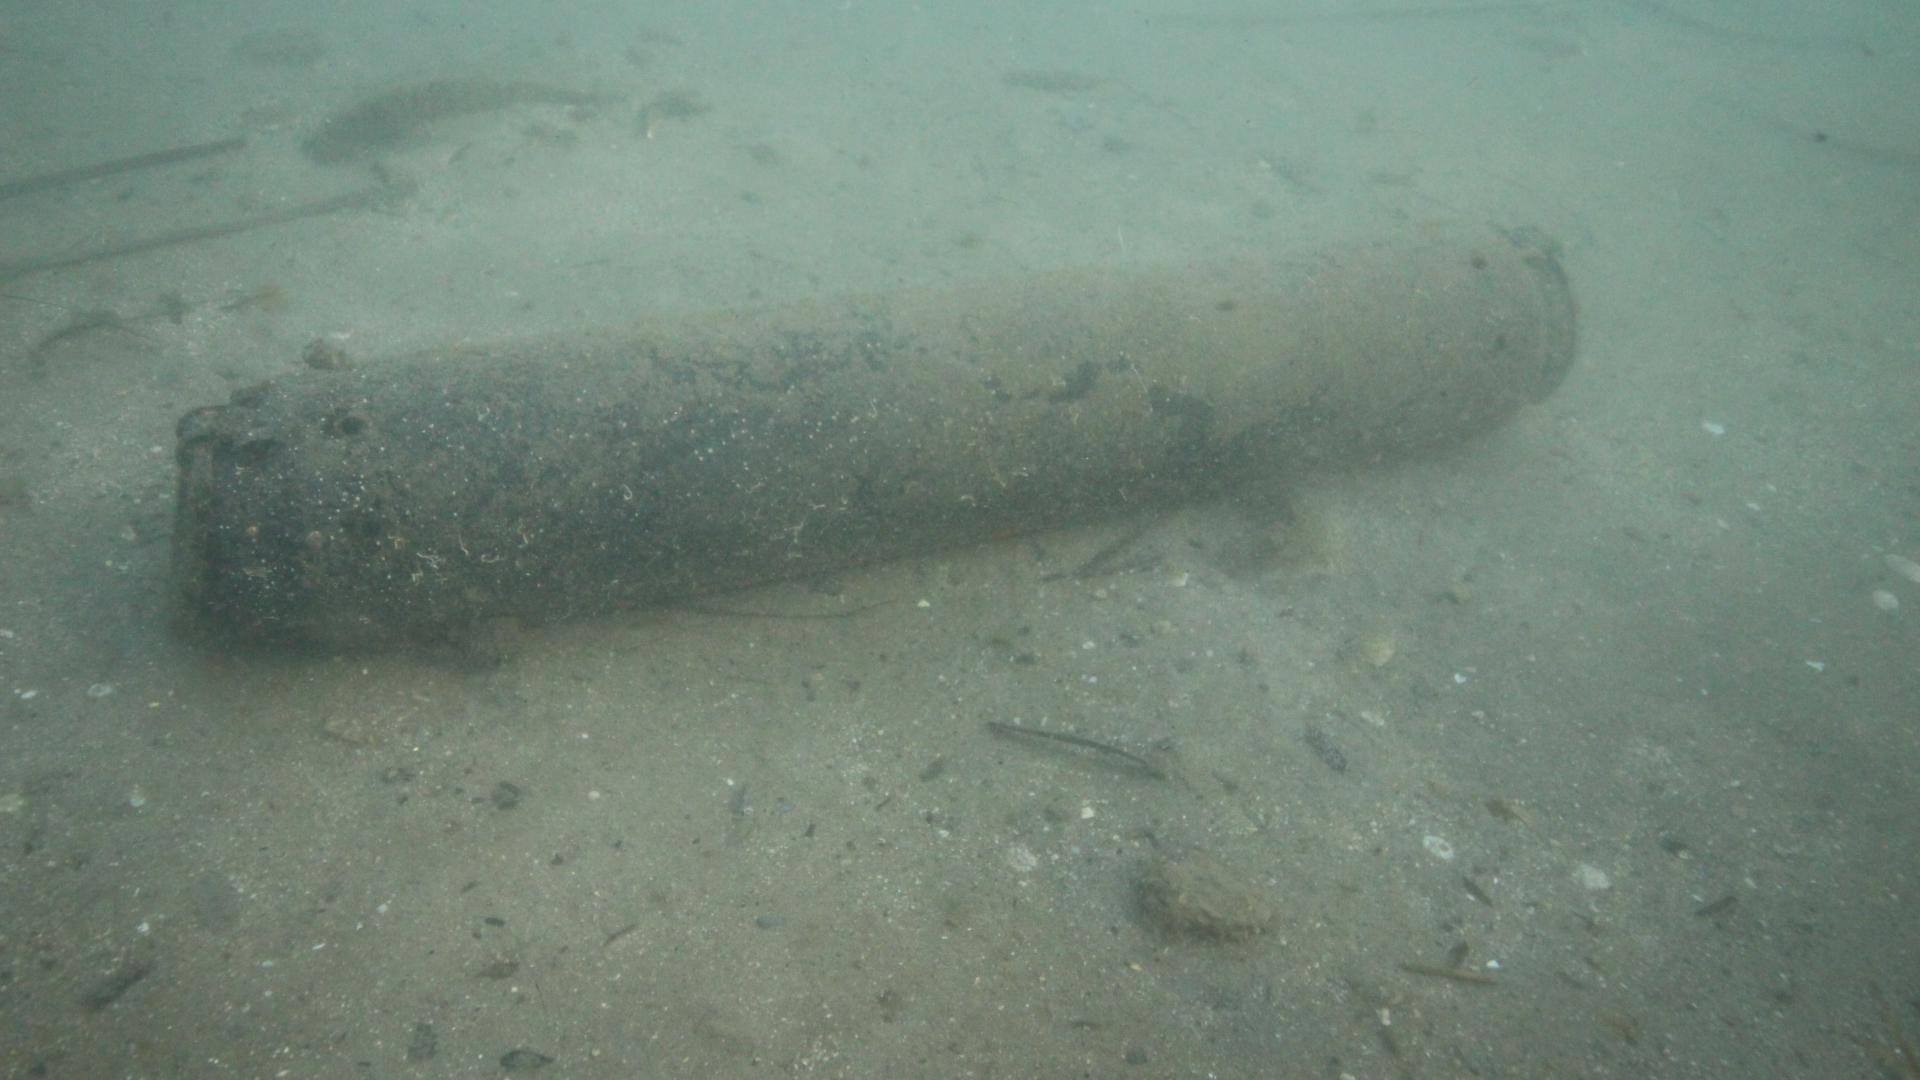eel fish trap: (166, 220, 1578, 647)
